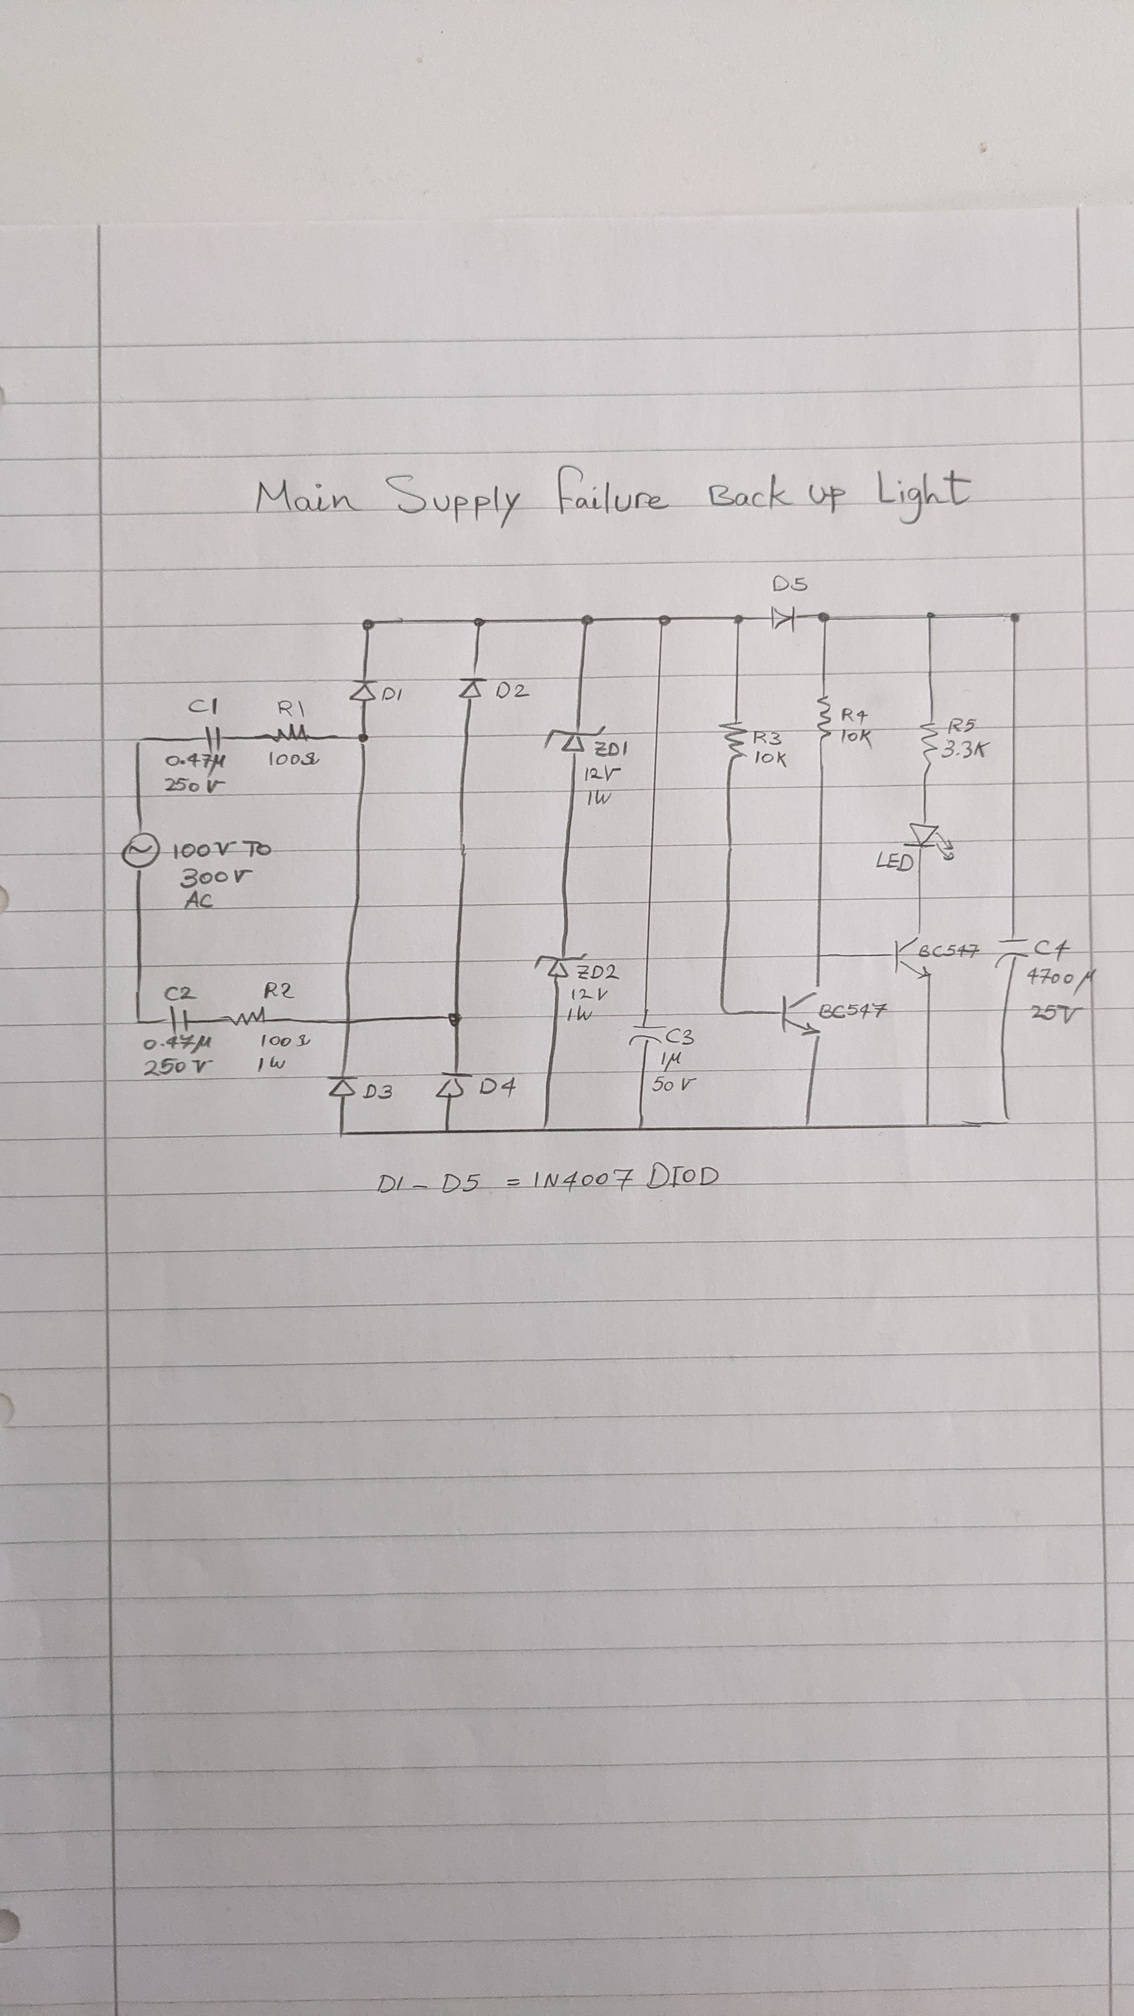capacitor.unpolarized: (991, 933, 1030, 972), (627, 1019, 667, 1048), (163, 1002, 192, 1034), (199, 723, 228, 752)
crossover: (341, 1015, 356, 1030)
diode: (543, 726, 606, 755), (532, 953, 590, 979), (432, 1069, 474, 1099), (456, 667, 489, 702), (324, 1072, 361, 1099), (768, 604, 798, 636), (346, 677, 379, 702)
diode.light_emitting: (901, 820, 957, 864)
junction: (440, 1008, 467, 1032), (354, 730, 372, 748), (655, 612, 674, 629), (716, 1002, 734, 1019), (359, 616, 377, 633), (577, 612, 595, 629), (813, 611, 834, 624), (1001, 611, 1022, 624), (800, 1117, 816, 1135), (471, 615, 490, 629), (1000, 1112, 1015, 1128), (335, 1124, 352, 1140), (731, 612, 748, 626), (132, 734, 148, 748), (924, 609, 939, 623), (921, 1117, 935, 1133), (634, 1122, 648, 1135), (539, 1122, 552, 1135), (132, 1014, 144, 1027), (440, 1124, 454, 1135), (813, 951, 827, 961)
resistor: (717, 719, 748, 764), (917, 717, 940, 775), (262, 721, 317, 745), (216, 1004, 269, 1027), (814, 692, 835, 744)
text: (251, 461, 976, 528), (374, 1160, 721, 1196), (170, 838, 276, 863), (1025, 965, 1097, 997), (179, 865, 253, 890), (163, 750, 228, 778), (816, 1000, 890, 1022), (143, 1056, 215, 1079), (143, 1033, 213, 1055), (1027, 1002, 1086, 1026), (163, 775, 228, 796), (917, 942, 983, 961), (940, 738, 991, 762), (267, 749, 323, 768), (872, 849, 915, 874), (1032, 937, 1072, 964), (575, 962, 623, 983), (649, 1073, 698, 1094), (478, 1074, 518, 1099), (258, 1032, 313, 1050), (582, 762, 622, 784), (839, 727, 875, 750), (771, 572, 809, 594), (493, 680, 532, 701), (186, 696, 222, 719), (183, 889, 216, 912), (591, 739, 630, 759), (276, 696, 307, 720), (753, 749, 789, 770), (260, 980, 296, 1001), (162, 983, 199, 1002), (255, 1052, 287, 1074), (361, 1081, 395, 1102), (946, 716, 978, 737), (665, 1026, 696, 1047), (584, 786, 613, 809), (750, 728, 784, 748), (570, 986, 609, 1002), (658, 1048, 683, 1073), (840, 705, 870, 726), (564, 1004, 593, 1023), (379, 685, 404, 703)
transistor: (777, 980, 827, 1041), (890, 928, 935, 980)
voltage.dc_ac: (120, 829, 163, 874)
